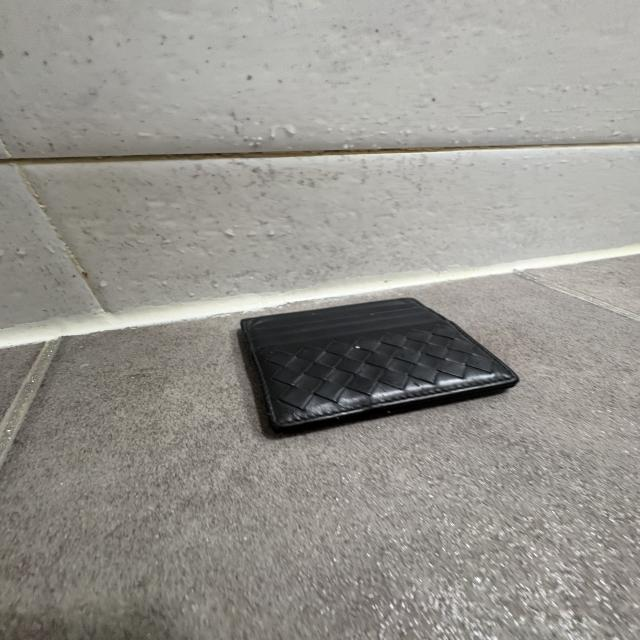wallet: (237, 295, 524, 441)
